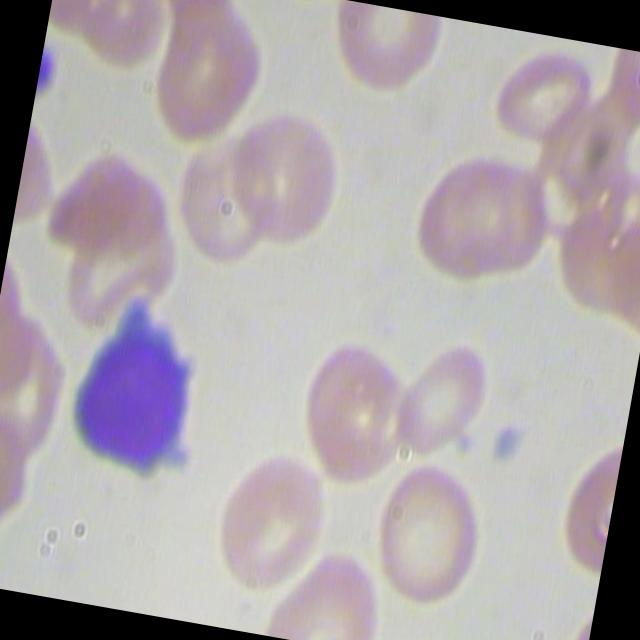RBC: (202, 439, 336, 602), (359, 448, 492, 611), (215, 95, 348, 258), (396, 135, 529, 298), (290, 328, 423, 490), (39, 118, 181, 266), (135, 0, 273, 150), (165, 115, 292, 270), (477, 27, 600, 150), (391, 326, 495, 459), (263, 539, 392, 640), (320, 0, 437, 106)
WBC: (41, 278, 234, 502)
